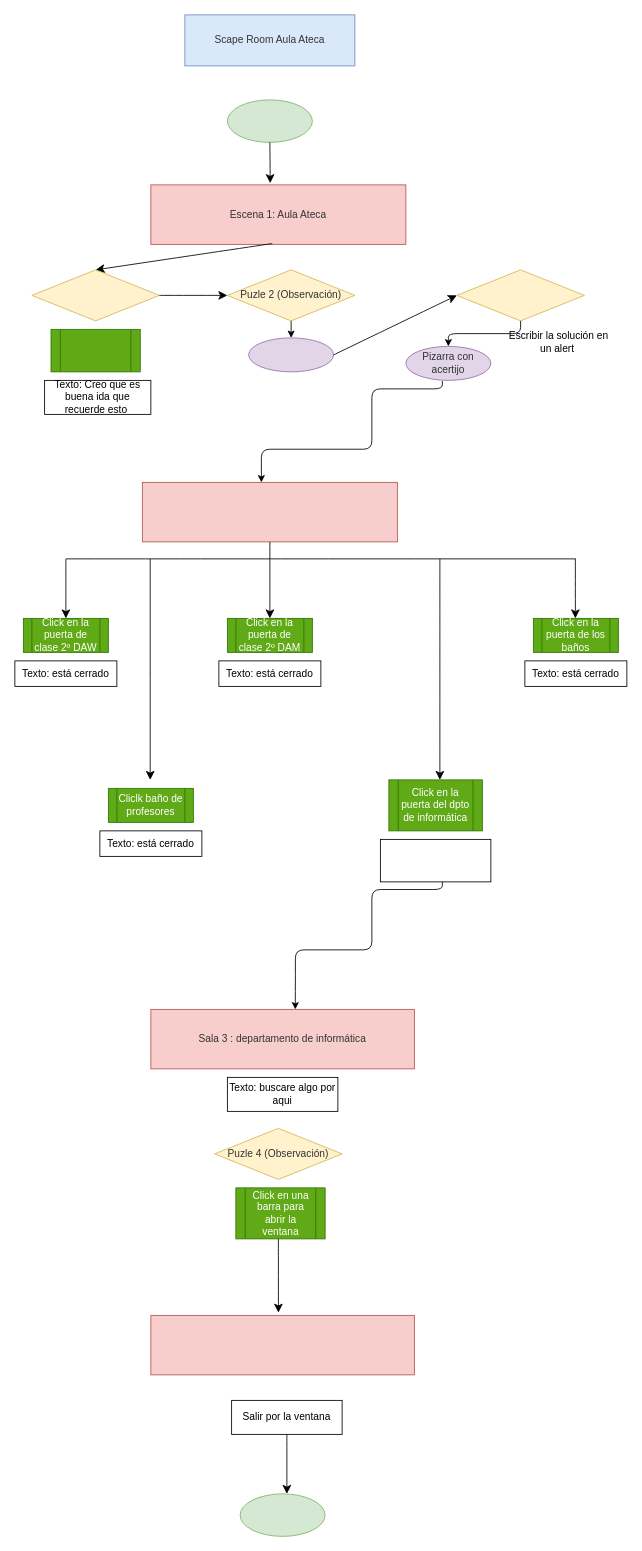
This 642x1551 diagram has some shape labels left out. Here are the shapes that lost their labels. From the top down, the box of each, then its label:
(227, 99, 312, 142): Inicio
(31, 269, 159, 321): Puzle 1 (Observación)
(456, 269, 584, 321): Puzle 3 (Lógica)
(50, 329, 140, 372): Click en la hoja de la mesa del profesor
(248, 337, 334, 372): Encender la pizarra
(142, 482, 397, 542): Escena 2: Pasillo
(380, 839, 491, 882): Texto sin la llave: Creo que se abre con una llave
(150, 1315, 414, 1375): Sala 4: Baño
(239, 1493, 325, 1536): Fin (Salida)
